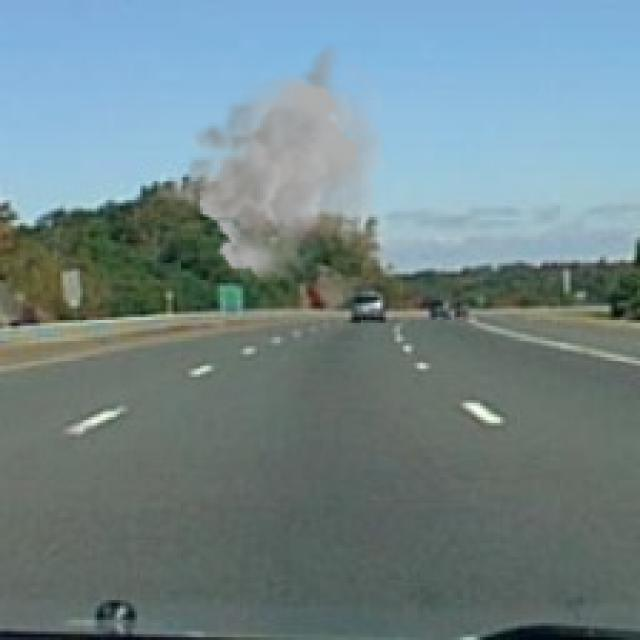smoke: (152, 43, 392, 283)
